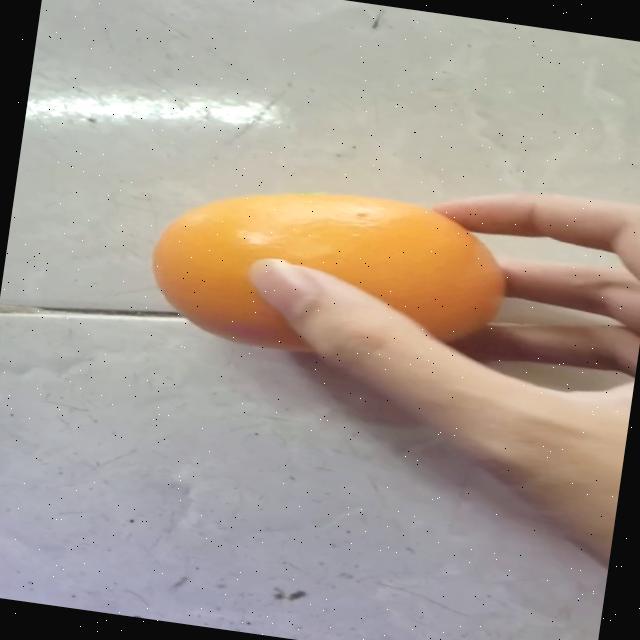orange: (94, 130, 558, 403)
